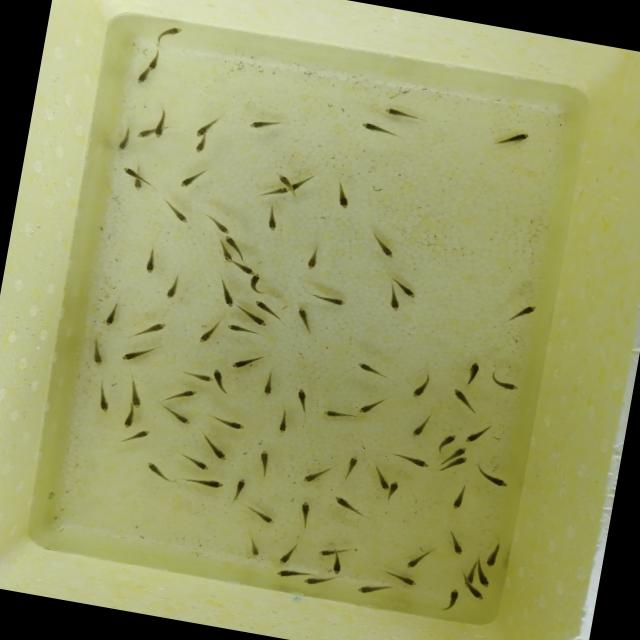fingerling: (500, 298, 540, 330), (328, 491, 369, 521), (158, 379, 200, 408), (489, 126, 532, 154), (444, 384, 480, 416), (126, 316, 167, 344), (471, 464, 515, 490), (227, 347, 266, 376), (294, 461, 334, 487), (207, 410, 250, 434), (198, 432, 232, 462), (158, 198, 192, 228), (358, 118, 403, 140), (118, 342, 156, 368), (155, 403, 196, 427), (171, 452, 217, 473), (486, 369, 524, 394), (240, 503, 278, 528), (151, 20, 186, 47), (140, 458, 176, 484), (380, 104, 426, 124), (213, 274, 240, 308), (462, 420, 492, 450), (368, 230, 398, 260), (290, 304, 318, 336), (246, 113, 284, 136), (198, 212, 234, 236), (288, 386, 315, 417), (355, 577, 393, 599), (275, 538, 302, 568), (178, 164, 208, 191), (380, 568, 420, 588), (191, 112, 219, 140), (253, 448, 276, 482), (442, 528, 468, 558), (352, 359, 389, 380), (407, 372, 432, 403), (408, 411, 433, 442), (183, 474, 226, 492), (458, 582, 490, 606), (392, 454, 430, 474), (252, 182, 290, 202), (236, 308, 272, 329), (306, 290, 348, 308), (294, 496, 315, 532), (355, 394, 384, 420), (258, 366, 280, 400), (125, 425, 156, 449), (196, 318, 220, 348), (178, 366, 214, 386), (447, 481, 470, 512), (332, 180, 354, 212), (460, 358, 482, 390), (368, 466, 393, 494), (141, 243, 162, 276), (320, 406, 358, 424), (209, 366, 234, 393), (225, 322, 262, 340), (291, 170, 318, 194), (101, 298, 121, 330), (124, 380, 146, 409), (227, 476, 248, 506), (88, 337, 109, 367), (341, 452, 362, 482), (150, 106, 169, 139), (115, 122, 134, 155), (406, 548, 432, 572), (270, 564, 304, 582), (249, 294, 278, 315), (261, 202, 281, 232), (302, 242, 322, 272), (483, 540, 503, 570), (248, 271, 272, 296), (94, 384, 114, 414), (243, 532, 264, 560), (441, 584, 462, 612), (272, 408, 292, 436), (384, 286, 404, 314), (471, 566, 494, 590), (433, 431, 458, 453), (384, 478, 402, 506), (146, 48, 167, 72), (163, 272, 180, 301), (329, 548, 344, 576), (270, 171, 294, 188), (135, 66, 152, 88), (192, 136, 210, 156), (215, 248, 236, 264), (302, 574, 325, 588), (398, 284, 418, 300), (121, 408, 136, 428), (234, 262, 254, 276), (136, 125, 152, 142), (316, 545, 334, 560), (222, 235, 242, 248), (453, 454, 468, 470), (120, 166, 136, 180), (452, 444, 468, 457), (132, 176, 143, 192)
